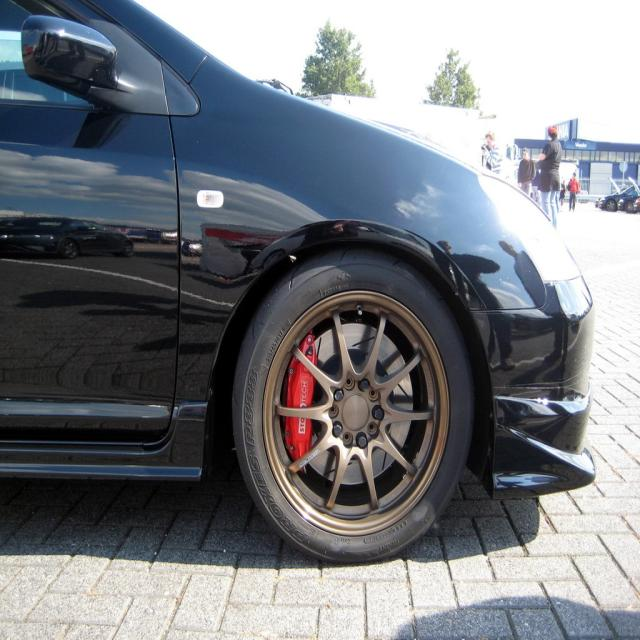car: (4, 7, 565, 561)
